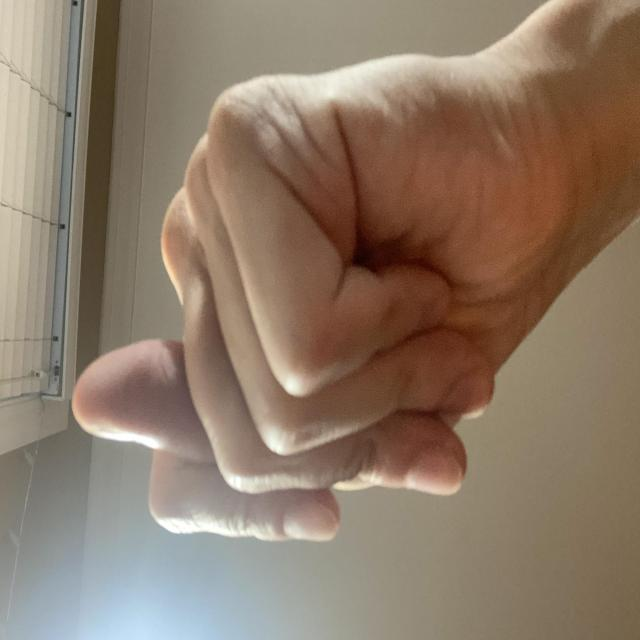T: (62, 85, 480, 640)
